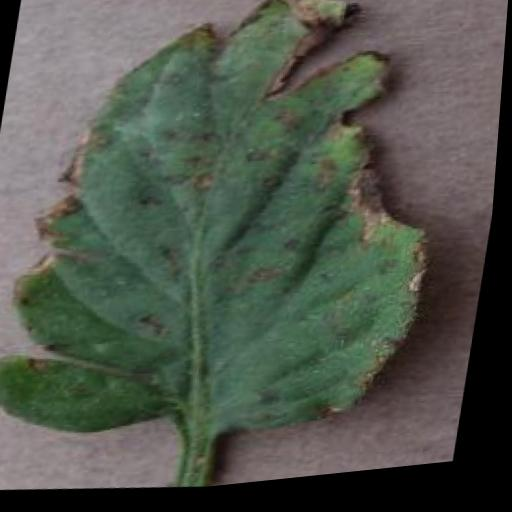Bacterial Spot: (0, 0, 484, 497)
